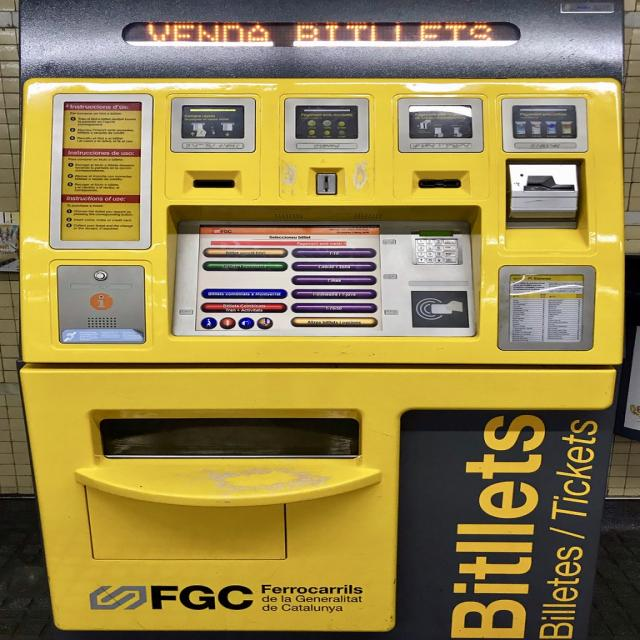tickets-maquina: (20, 0, 623, 639)
